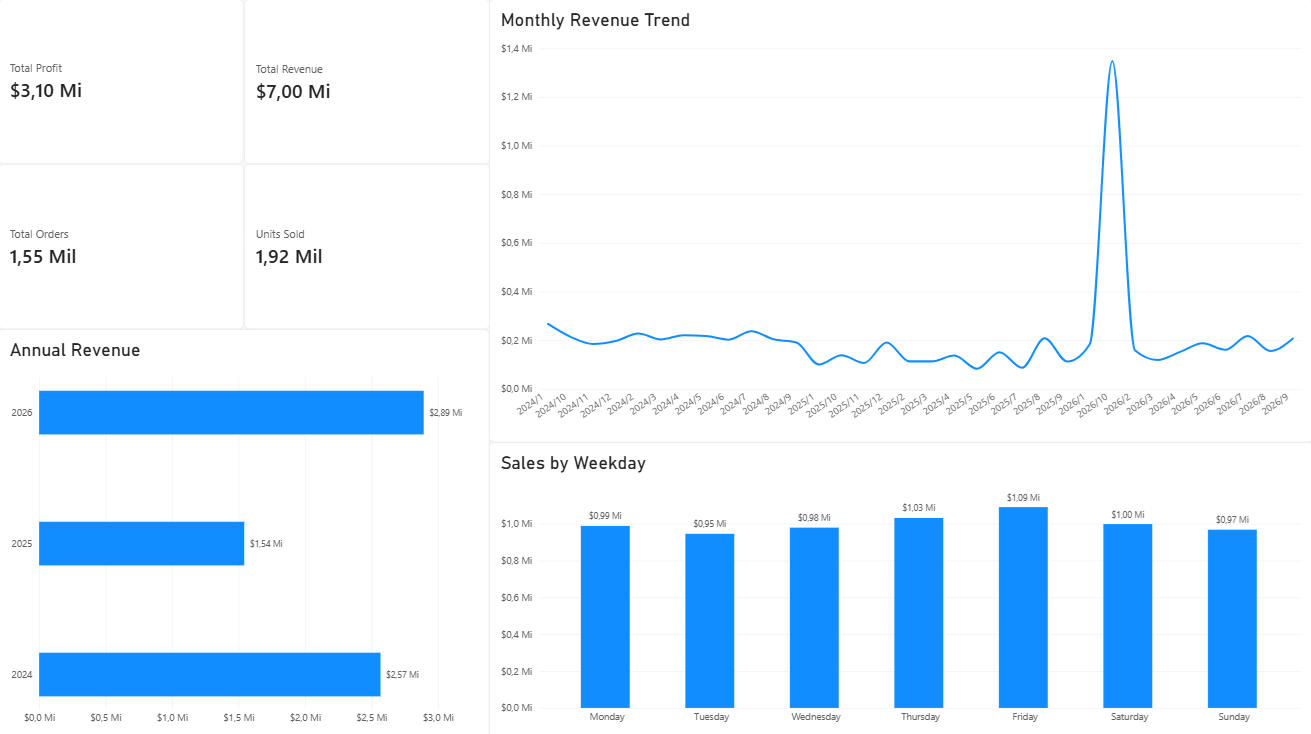

This screenshot's page, from the dashboard's own definition file:
{"tool":"powerbi","page":{"name":"\tSales Performance Overview","canvas":[1920,1080],"ordinal":2},"visuals":[{"type":"cardVisual","fields":{"Data":["Sum(1 Annual Sales Performance.Lucro_Total)"]},"box":[0,0,358.5,240.6],"z":0},{"type":"cardVisual","fields":{"Data":["Sum(1 Annual Sales Performance.Faturamento_Total)"]},"box":[358.5,0,359,241],"z":1000},{"type":"cardVisual","fields":{"Data":["Sum(1 Annual Sales Performance.Quantidade_Pedidos)"]},"box":[0,240.6,359,241],"z":2000},{"type":"cardVisual","fields":{"Data":["Sum(1 Annual Sales Performance.Unidades_Vendidas)"]},"box":[358.5,240.6,359,241],"z":3000},{"type":"barChart","title":"Annual Revenue","fields":{"Category":["1 Annual Sales Performance.Ano"],"Y":["Sum(1 Annual Sales Performance.Faturamento_Total)"]},"box":[0,481.2,717,599.1],"z":4000},{"type":"lineChart","title":"Monthly Revenue Trend","fields":{"Category":["2 Monthly Sales Performance.Data"],"Y":["Sum(2 Monthly Sales Performance.Faturamento_Total)"]},"box":[717,0,1203,646.9],"z":5000},{"type":"columnChart","title":"Sales by Weekday","fields":{"Category":["10 Sales Performance by Weekday.Nome_Dia"],"Y":["Sum(10 Sales Performance by Weekday.Faturamento_Total)"]},"box":[717,647,1203,433],"z":6000}]}

Visuals, with their boxes in screenshot pixels (x1, y1, x2, y2), scaled from the page's 1920x1080 canvas onto the 1311x734 screenshot:
cardVisual - Sum(1 Annual Sales Performance.Lucro_Total): 0:0:245:164
cardVisual - Sum(1 Annual Sales Performance.Faturamento_Total): 245:0:490:164
cardVisual - Sum(1 Annual Sales Performance.Quantidade_Pedidos): 0:164:245:327
cardVisual - Sum(1 Annual Sales Performance.Unidades_Vendidas): 245:164:490:327
"Annual Revenue" barChart: 0:327:490:733
"Monthly Revenue Trend" lineChart: 490:0:1310:440
"Sales by Weekday" columnChart: 490:440:1310:733
